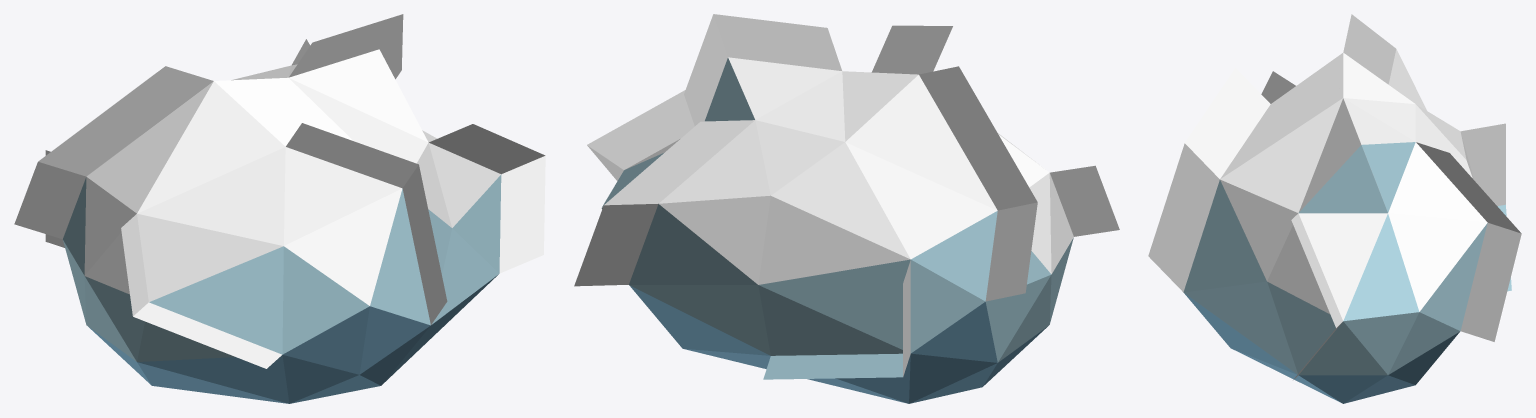
The model's file is bush1.fbx.
The picture shows the model from 3 angles, left to right: view 1: azimuth 30°, elevation 25°; view 2: azimuth 150°, elevation 25°; view 3: azimuth 270°, elevation 25°; orthographic projection. The views are drawn at different scales.
Visible parts, largest first — view 1: bush; view 2: bush; view 3: bush.
Part boxes in pixels (<box>): bush: <box>14,14,545,403</box>; bush: <box>574,14,1119,403</box>; bush: <box>1148,14,1521,403</box>.
Size of the model in its own units: 338 by 225 by 258.
Materials: 1 (1 with a texture image).
